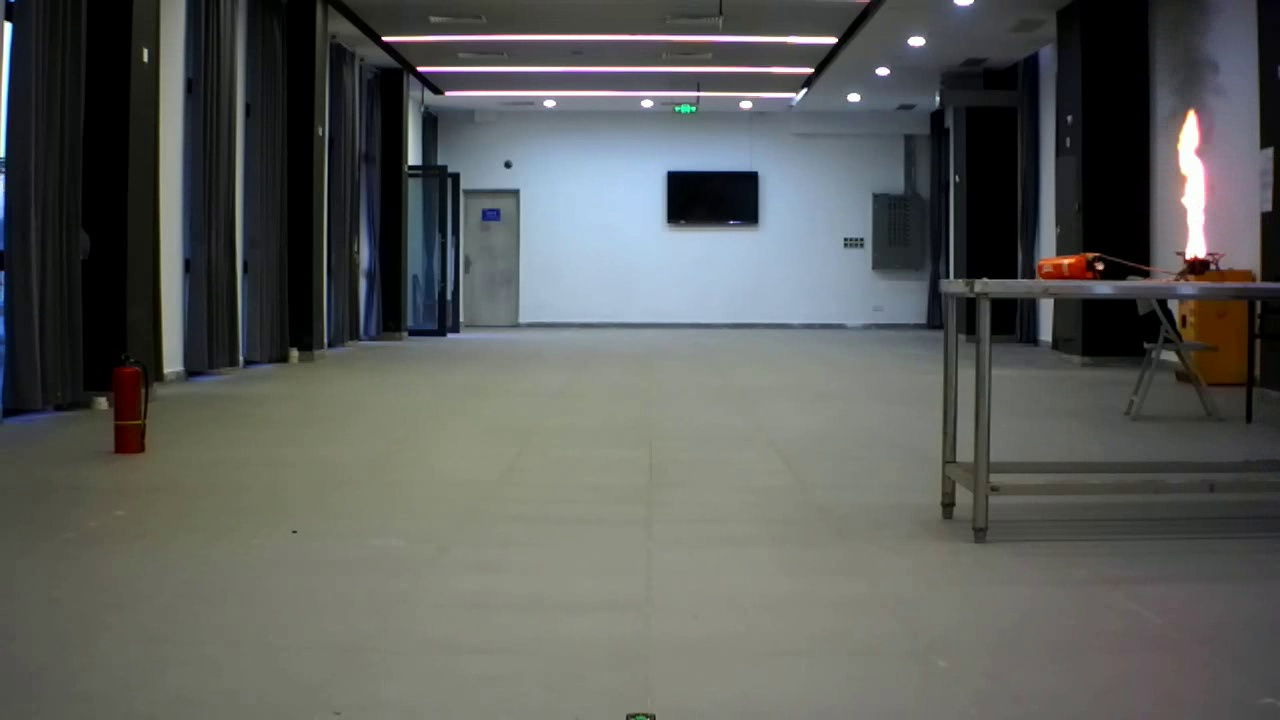Fire: (1167, 84, 1222, 266)
